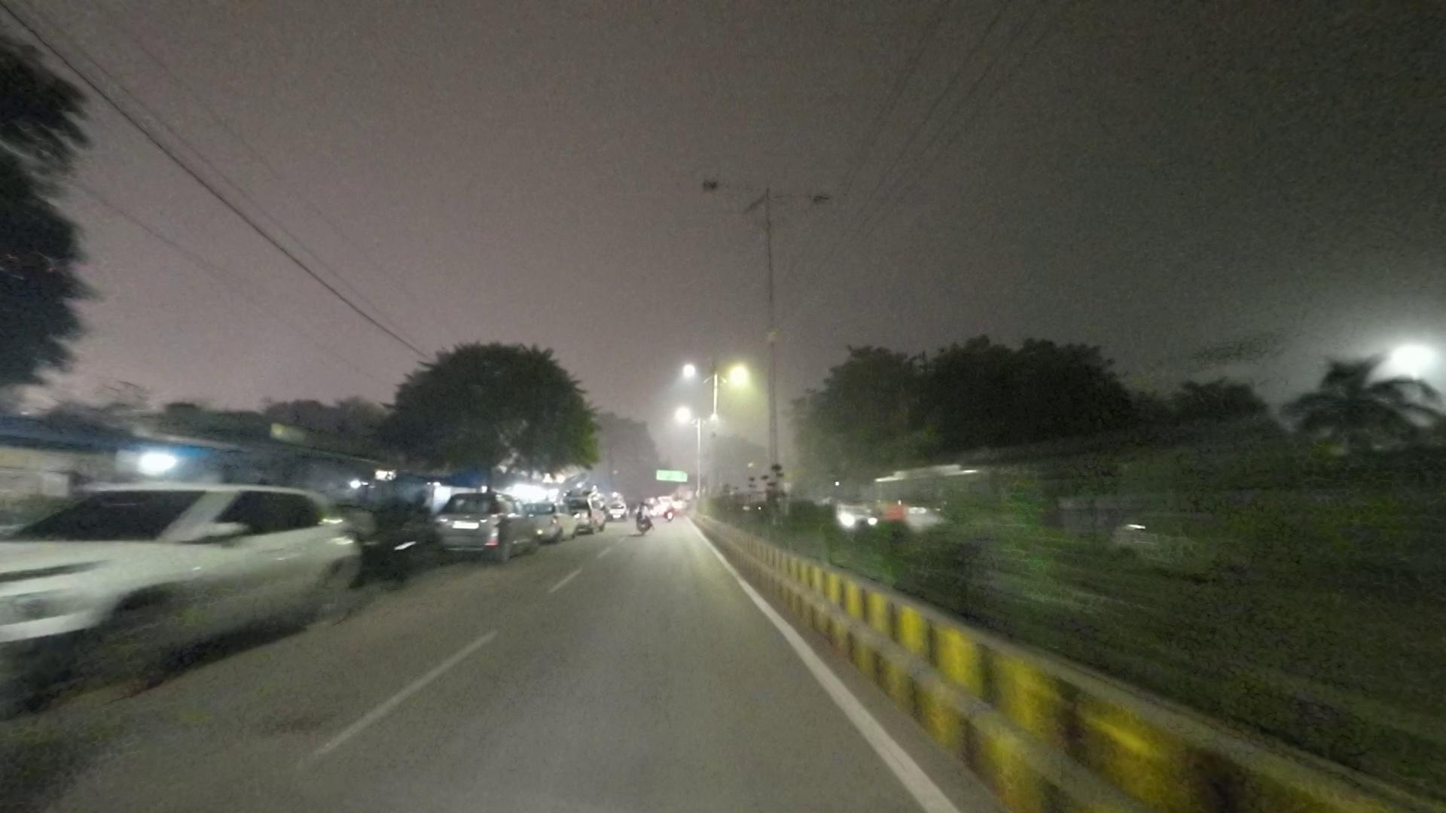streetlight: (699, 176, 765, 198), (769, 188, 834, 209)
